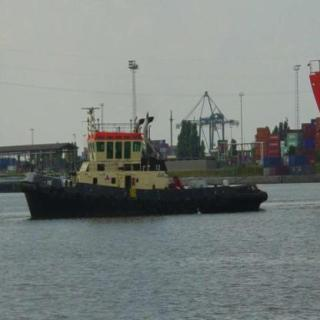Tug Boat: (17, 93, 254, 214)
